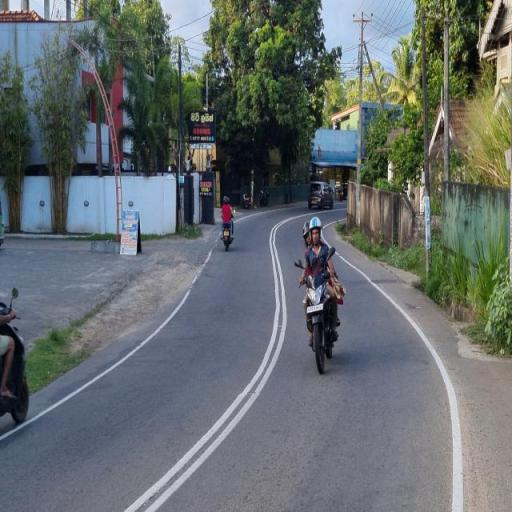double_white_line: (122, 211, 292, 511)
